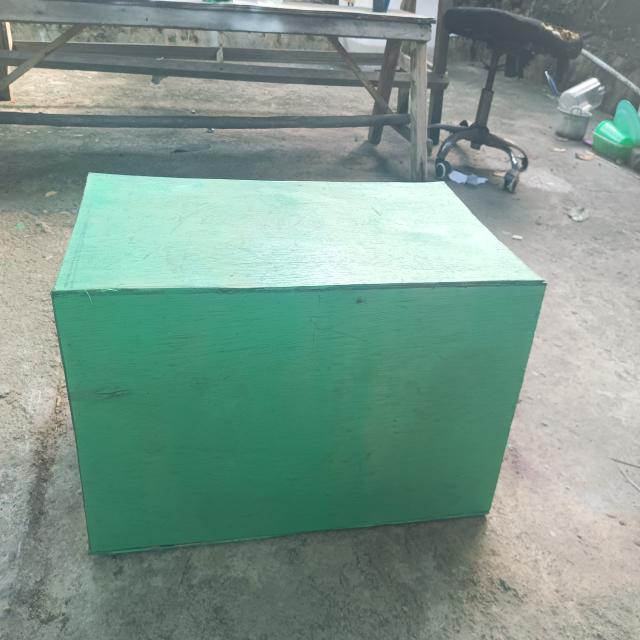green_box: (47, 150, 552, 566)
